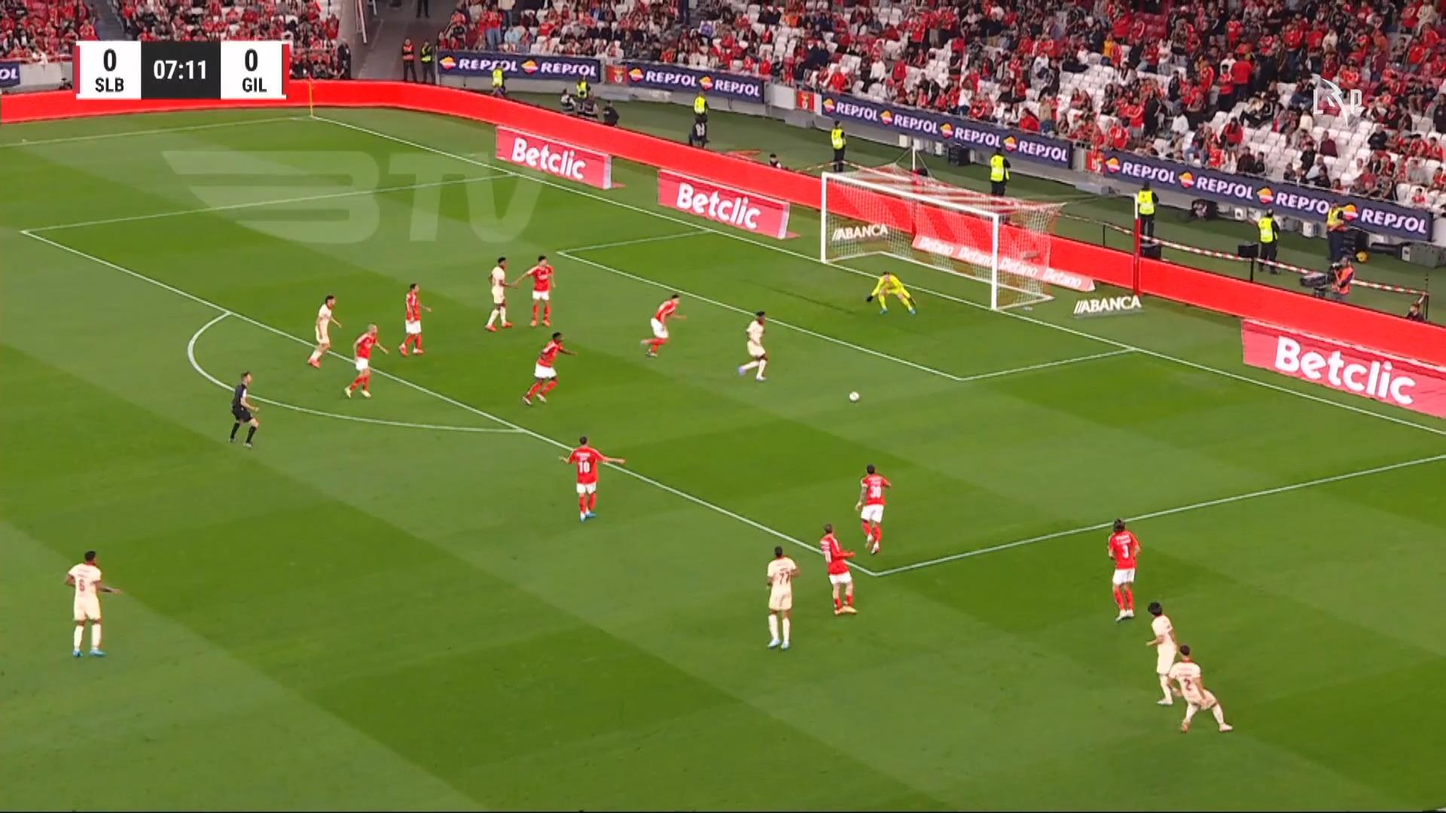ball: (848, 391, 859, 401)
goalkeeper: (865, 270, 917, 315)
player: (63, 550, 120, 657), (1165, 644, 1233, 733), (558, 435, 626, 522), (520, 331, 576, 406), (1106, 517, 1141, 622), (764, 545, 799, 650), (818, 522, 857, 615), (343, 322, 389, 398), (1145, 601, 1178, 705), (854, 463, 891, 555), (640, 292, 686, 358), (514, 254, 555, 327), (306, 294, 341, 368), (398, 282, 432, 356), (484, 255, 515, 331), (737, 309, 769, 381)
referee: (228, 370, 260, 448)
